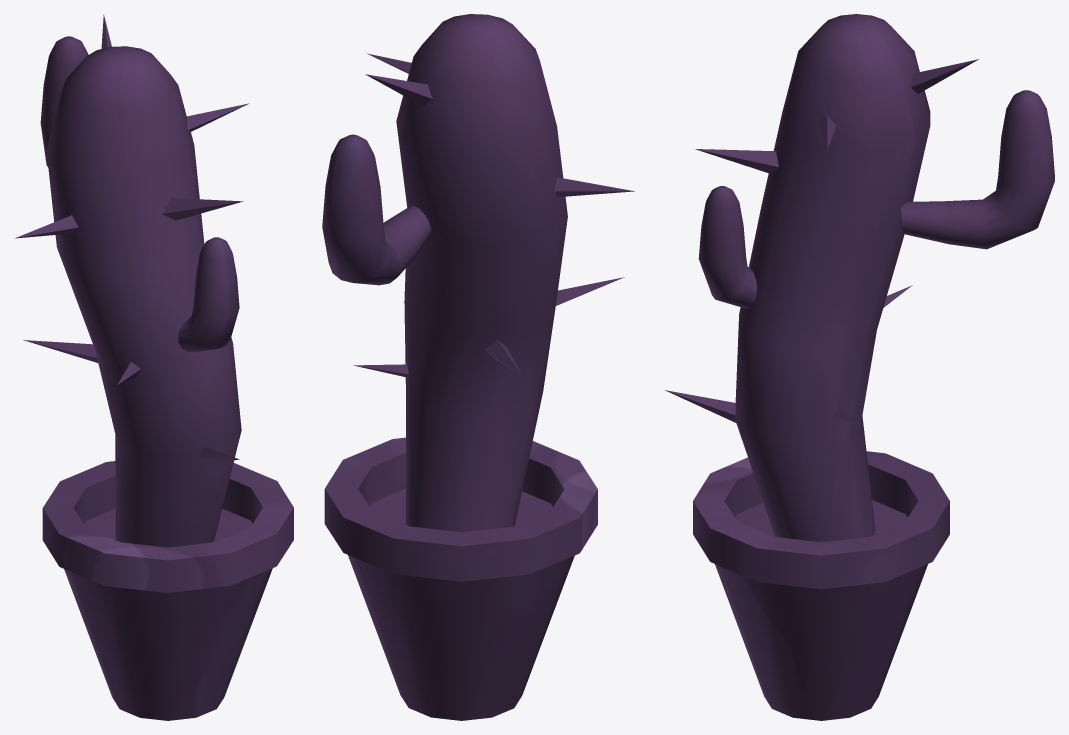
Rendered from cact1.fbx.
The picture shows the model from 3 angles, left to right: view 1: azimuth 30°, elevation 25°; view 2: azimuth 150°, elevation 25°; view 3: azimuth 270°, elevation 25°; orthographic projection. The views are drawn at different scales.
Visible parts, largest first — view 1: pCone51; view 2: pCone51; view 3: pCone51.
Part boxes in pixels (bbox=[...]): pCone51: bbox=[14, 14, 293, 720]; pCone51: bbox=[322, 14, 634, 720]; pCone51: bbox=[664, 14, 1054, 720].
Bounding box in the file's own units: 3.09 × 7.09 × 3.81.
